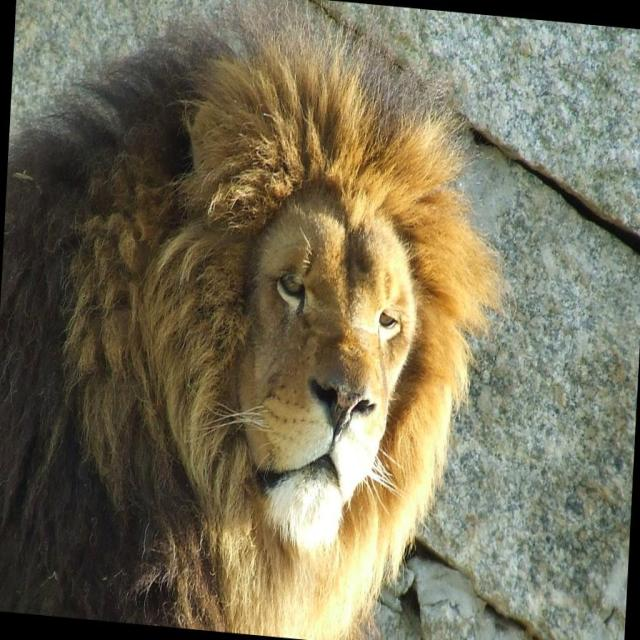Lion: (0, 0, 528, 639)
